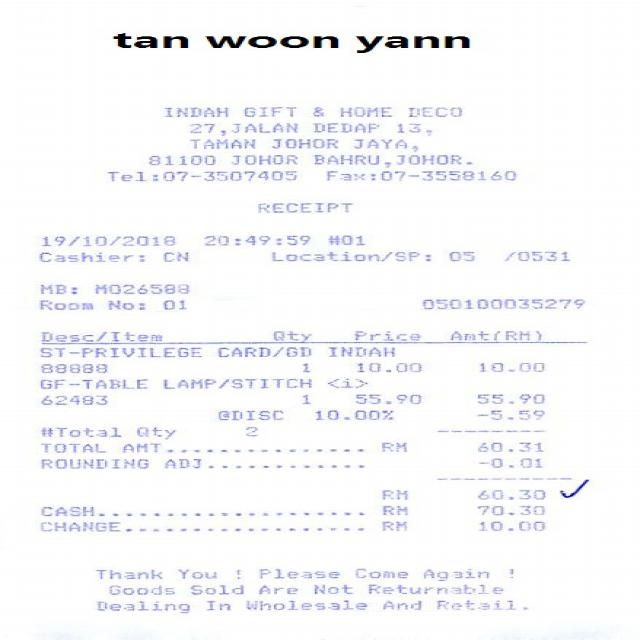text: (322, 168, 513, 179), (105, 169, 296, 179), (40, 346, 198, 357), (198, 36, 338, 48), (352, 36, 469, 50), (420, 298, 580, 308), (268, 248, 427, 258), (160, 378, 309, 388), (365, 584, 500, 594), (35, 329, 159, 339), (243, 599, 366, 609), (40, 234, 170, 243), (106, 33, 186, 47), (96, 600, 188, 612), (38, 378, 144, 388), (32, 249, 137, 259), (252, 200, 352, 210), (39, 458, 146, 467), (94, 281, 190, 291), (216, 346, 310, 356), (448, 328, 540, 338), (418, 566, 488, 578), (38, 426, 118, 436), (314, 408, 392, 418), (352, 138, 416, 150), (312, 154, 388, 164), (198, 235, 304, 242), (255, 567, 337, 576), (216, 407, 283, 418), (476, 487, 542, 498), (38, 520, 118, 529), (435, 599, 513, 608), (324, 346, 394, 356), (36, 361, 106, 371), (267, 138, 335, 148), (185, 138, 252, 148), (503, 248, 570, 258), (476, 360, 542, 370), (36, 441, 102, 451), (94, 567, 160, 577), (353, 328, 418, 338), (35, 394, 105, 403), (474, 519, 544, 528), (477, 458, 539, 468), (474, 393, 542, 402), (353, 393, 421, 402), (106, 585, 174, 594), (159, 106, 220, 116), (309, 121, 375, 130), (230, 154, 296, 163), (476, 408, 542, 417), (476, 440, 542, 449), (354, 361, 418, 370), (404, 106, 461, 116), (39, 506, 95, 516), (233, 120, 294, 129), (353, 566, 407, 576), (476, 506, 542, 514), (395, 154, 468, 161), (271, 328, 309, 341), (143, 155, 213, 162), (335, 106, 388, 115), (190, 585, 243, 594), (38, 299, 90, 308), (132, 426, 170, 438), (239, 106, 289, 115), (322, 377, 362, 387), (187, 120, 220, 132), (159, 458, 198, 468), (121, 440, 159, 450), (255, 584, 296, 593), (381, 599, 422, 608), (310, 584, 350, 593), (324, 234, 363, 243), (35, 282, 74, 291), (175, 567, 214, 576), (395, 120, 429, 130), (102, 300, 140, 308), (374, 488, 404, 498), (375, 505, 402, 516), (373, 519, 401, 529), (160, 249, 186, 259), (162, 299, 185, 310), (380, 440, 402, 450), (204, 599, 228, 608), (445, 249, 468, 258), (244, 426, 255, 435), (312, 106, 321, 115), (300, 361, 308, 370), (298, 393, 306, 401)
